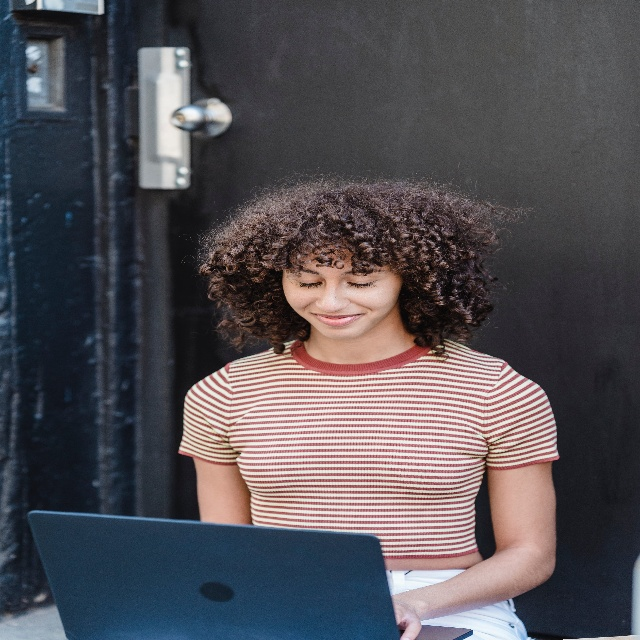Sin_guantes: (392, 592, 424, 638)
